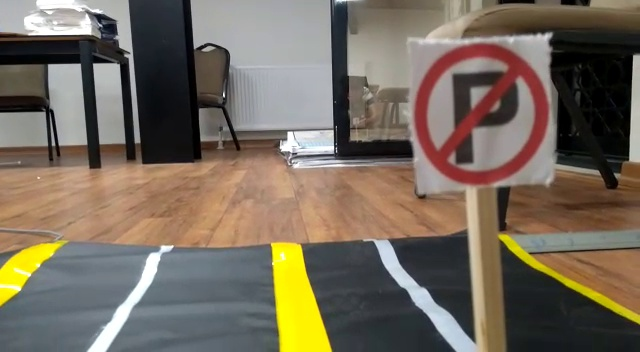park_yapilmaz: (411, 41, 555, 183)
